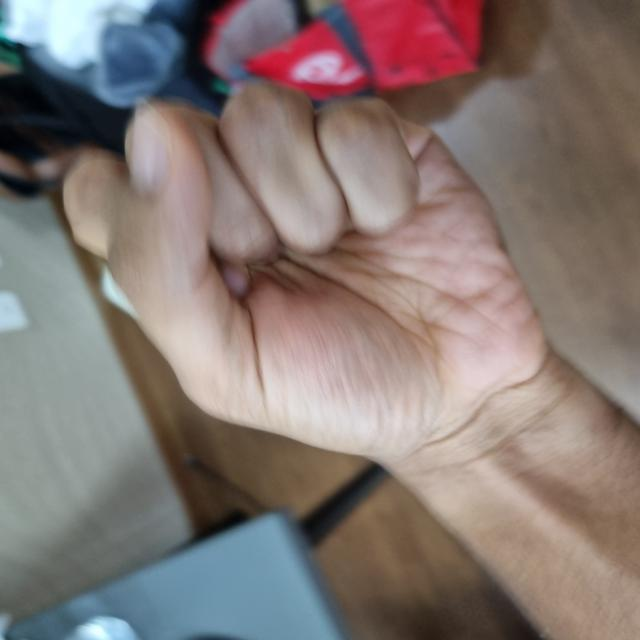Rock: (168, 91, 520, 544)
